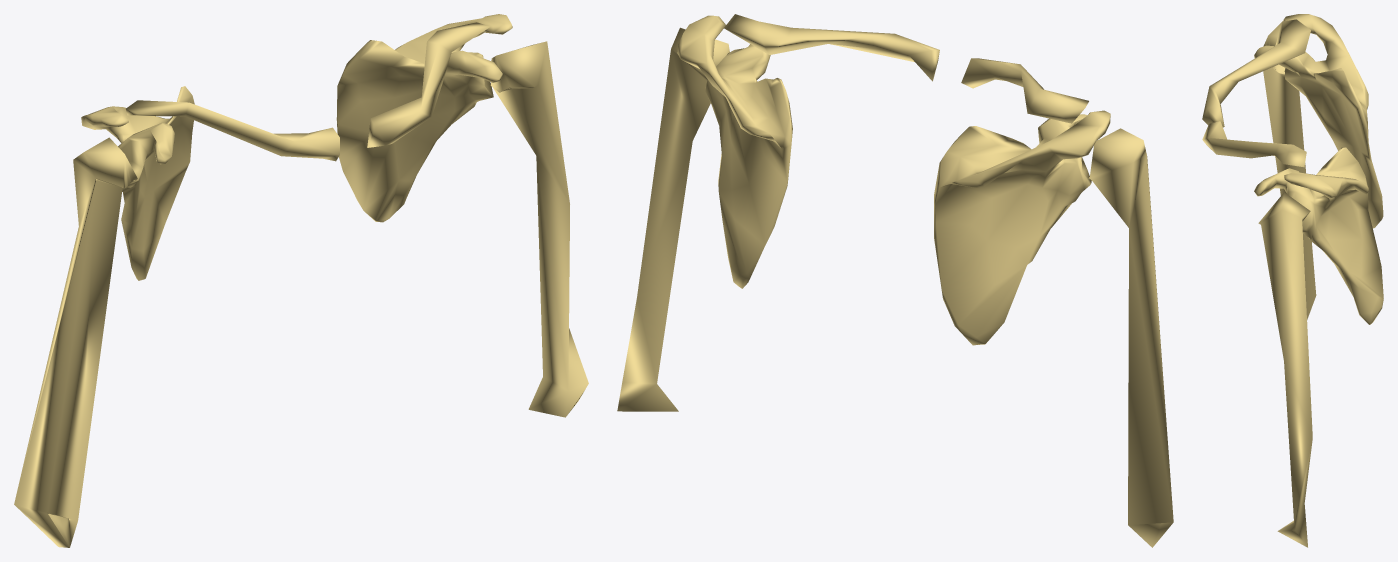
The model's file is shoulder-KRLYONCH.glb.
3 renders of one model, left to right at view 1: azimuth 30°, elevation 25°; view 2: azimuth 150°, elevation 25°; view 3: azimuth 270°, elevation 25°, orthographic. The views are drawn at different scales.
Parts seen in each view (by area): view 1: shoulder:humerus:isa:FJ3368, shoulder:scapula:isa:FJ3279, shoulder:humerus:isa:FJ3262, shoulder:scapula:isa:FJ3384, shoulder:clavicle:isa:FJ3362, shoulder:clavicle:isa:FJ3237; view 2: shoulder:scapula:isa:FJ3384, shoulder:scapula:isa:FJ3279, shoulder:humerus:isa:FJ3368, shoulder:humerus:isa:FJ3262, shoulder:clavicle:isa:FJ3237, shoulder:clavicle:isa:FJ3362; view 3: shoulder:humerus:isa:FJ3262, shoulder:scapula:isa:FJ3279, shoulder:scapula:isa:FJ3384, shoulder:humerus:isa:FJ3368, shoulder:clavicle:isa:FJ3362, shoulder:clavicle:isa:FJ3237.
Part boxes in pixels (bbox=[...]): shoulder:humerus:isa:FJ3368: bbox=[14, 137, 137, 547]; shoulder:scapula:isa:FJ3279: bbox=[336, 14, 512, 222]; shoulder:humerus:isa:FJ3262: bbox=[490, 41, 588, 417]; shoulder:scapula:isa:FJ3384: bbox=[81, 86, 194, 280]; shoulder:clavicle:isa:FJ3362: bbox=[126, 100, 339, 161]; shoulder:clavicle:isa:FJ3237: bbox=[367, 22, 490, 147]; shoulder:scapula:isa:FJ3384: bbox=[934, 110, 1110, 345]; shoulder:scapula:isa:FJ3279: bbox=[677, 15, 792, 288]; shoulder:humerus:isa:FJ3368: bbox=[1088, 128, 1173, 547]; shoulder:humerus:isa:FJ3262: bbox=[617, 27, 729, 411]; shoulder:clavicle:isa:FJ3237: bbox=[724, 14, 939, 81]; shoulder:clavicle:isa:FJ3362: bbox=[961, 58, 1088, 123]; shoulder:humerus:isa:FJ3262: bbox=[1258, 192, 1312, 547]; shoulder:scapula:isa:FJ3279: bbox=[1254, 147, 1383, 324]; shoulder:scapula:isa:FJ3384: bbox=[1254, 14, 1383, 228]; shoulder:humerus:isa:FJ3368: bbox=[1263, 20, 1316, 319]; shoulder:clavicle:isa:FJ3362: bbox=[1202, 19, 1310, 127]; shoulder:clavicle:isa:FJ3237: bbox=[1202, 121, 1306, 167].
Size of the model in its own units: 0.4494 by 0.324 by 0.1508.
